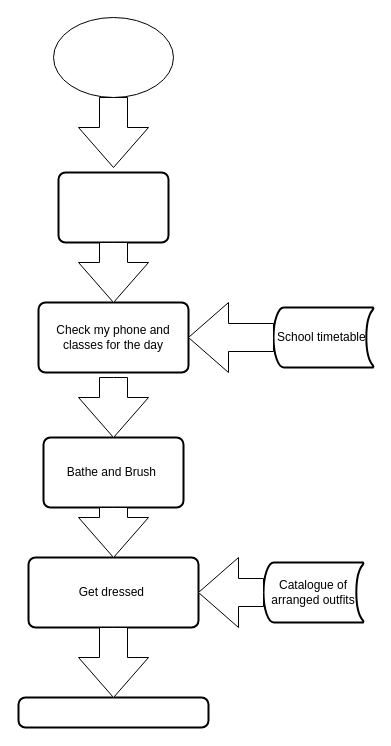
This 391x746 diagram has some shape labels left out. Each missing label, with the box of its shape:
Go back to sleep for 30 minutes: (57, 171, 169, 243)
Go to School: (17, 696, 209, 728)
Start: (52, 16, 174, 98)
